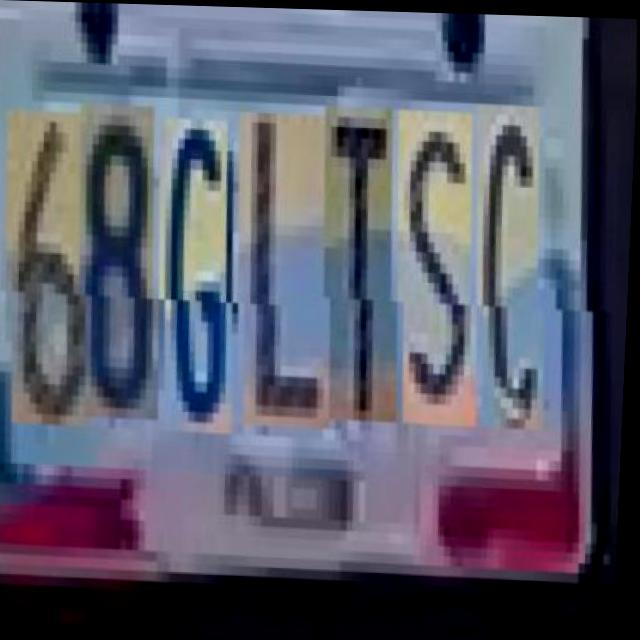6: (1, 109, 102, 426)
8: (76, 102, 169, 419)
c: (472, 98, 554, 423)
g: (155, 116, 242, 431)
l: (234, 108, 340, 425)
s: (393, 105, 487, 422)
t: (320, 101, 407, 418)
